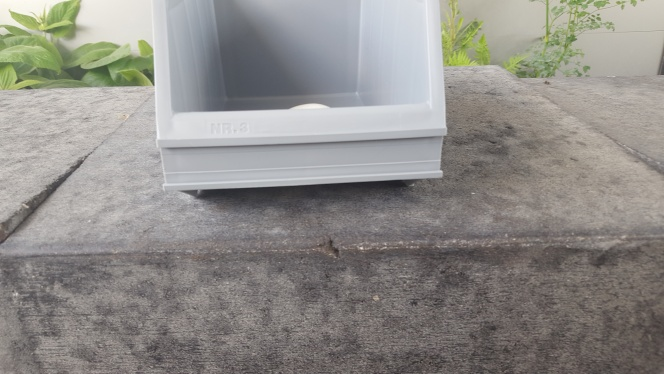egg: (283, 102, 330, 112)
tray_front: (148, 1, 447, 195)
